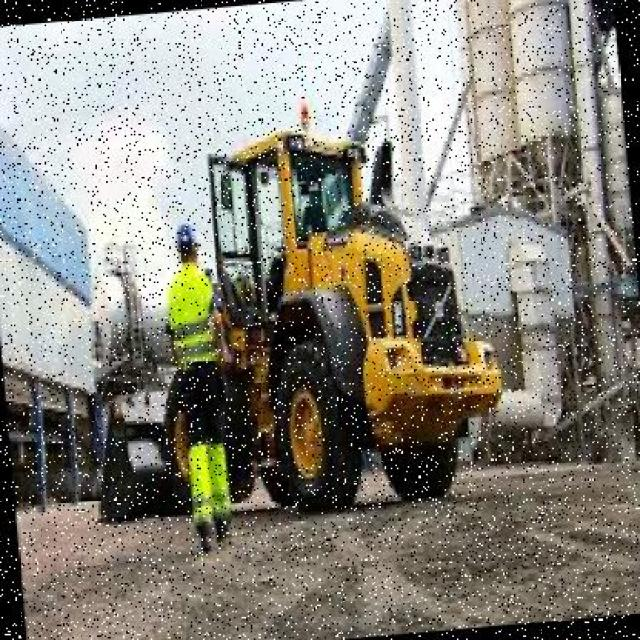buldozerpayloadergrader: (166, 110, 509, 524)
